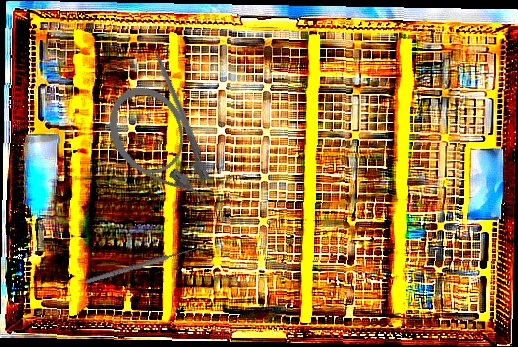Cannula: (92, 72, 229, 231)
Hook Surgical: (147, 37, 204, 156), (82, 238, 206, 286)
